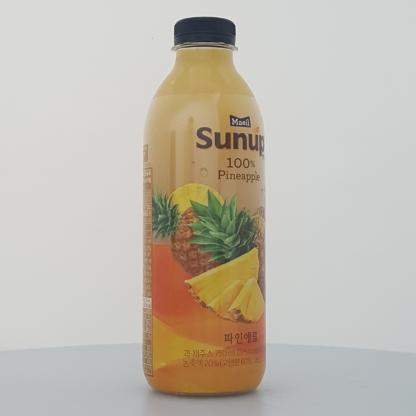----100_----750ML: (141, 16, 266, 398)
